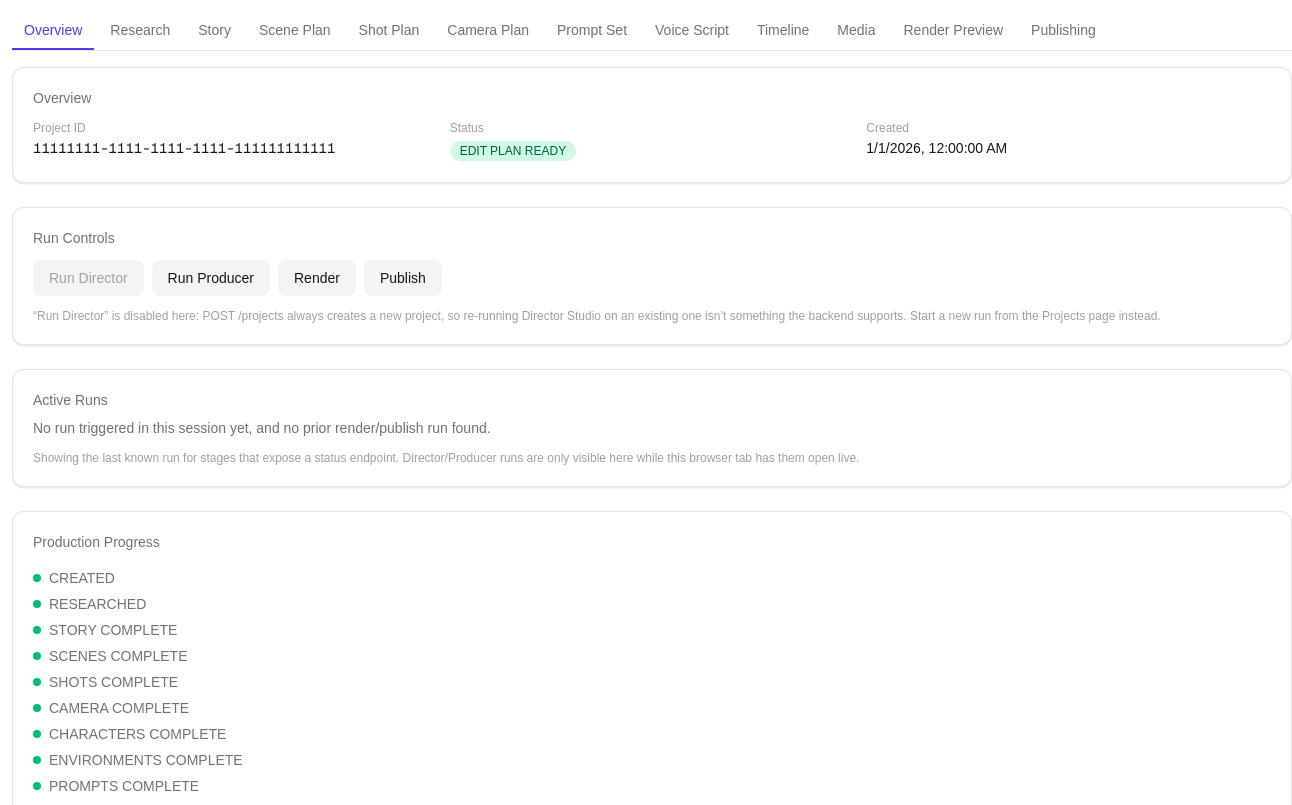
ProjectWorkspace › switches to the Render Preview tab and shows the empty state for a non-rendered project
Click the tab "Render Preview" at (953, 31), box top-left (892, 12), bottom-right (1015, 50)
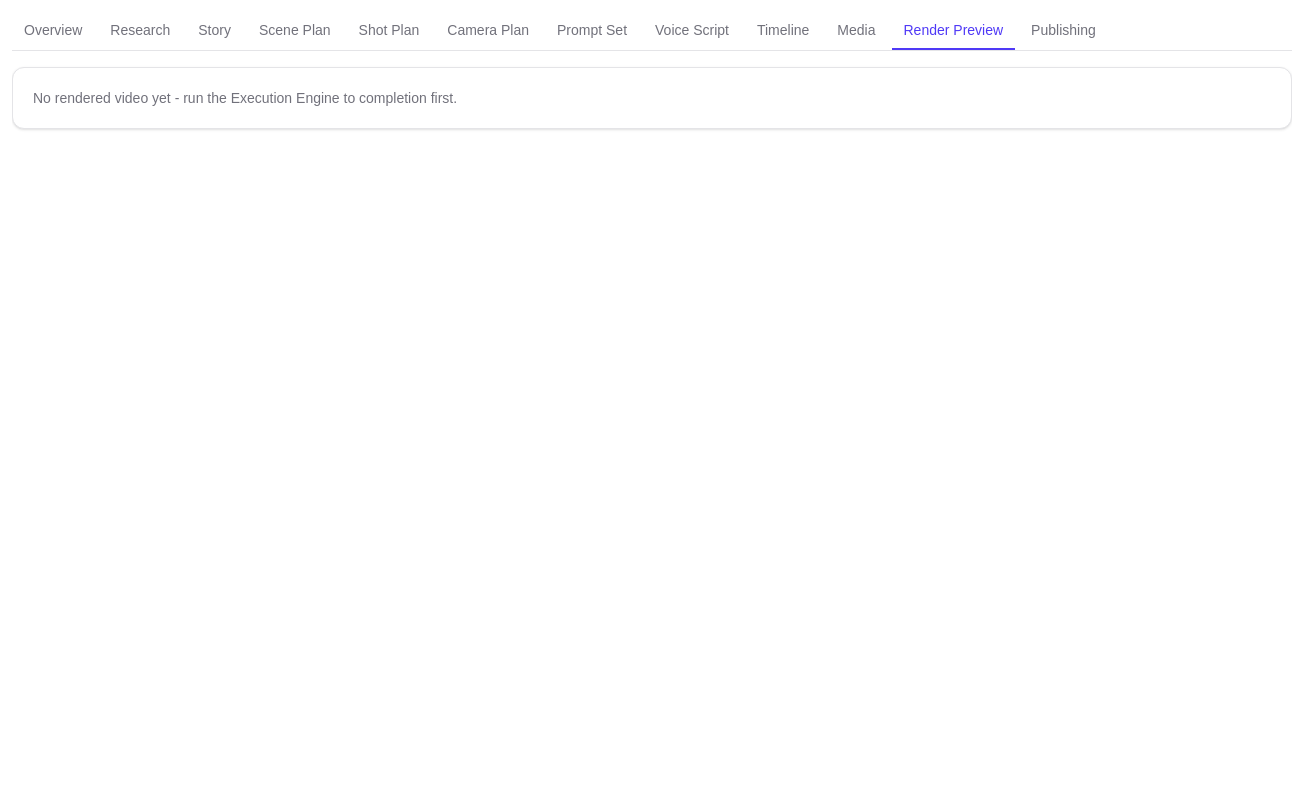
expect the text "No rendered video yet" is shown: met, box top-left (33, 90), bottom-right (457, 106)
